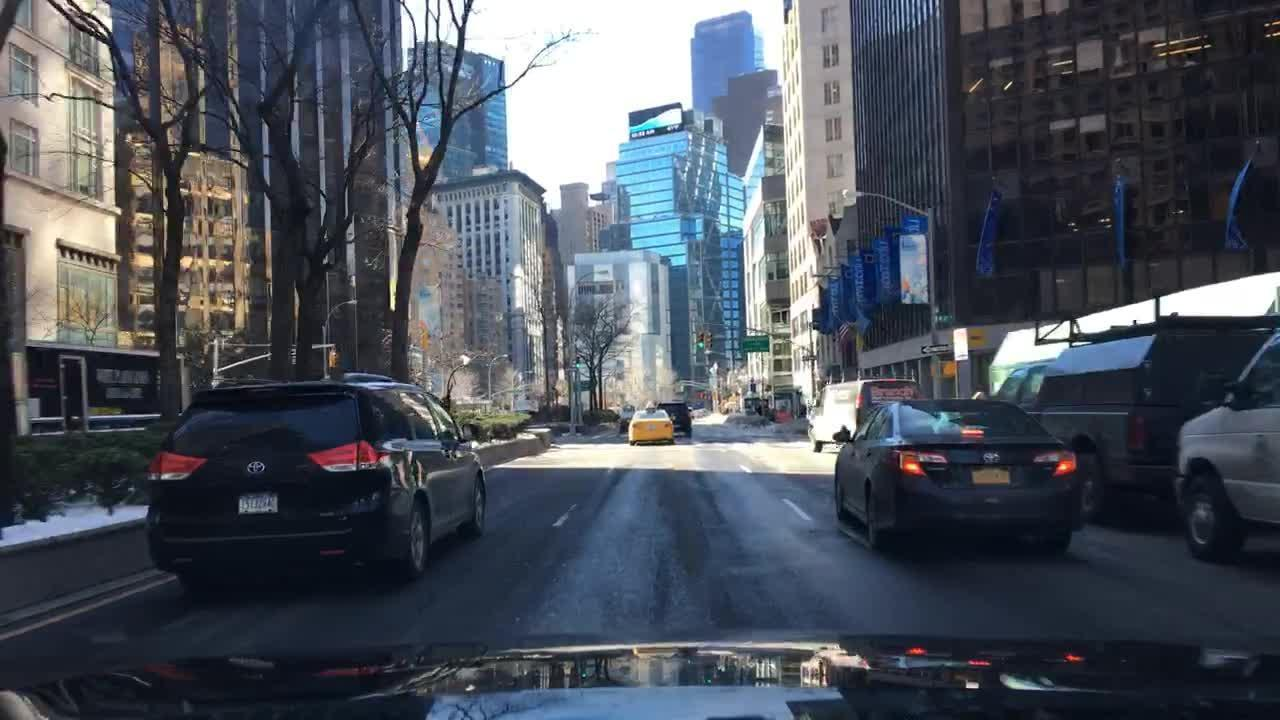Toyota: (977, 446, 1005, 470), (246, 459, 268, 477)
